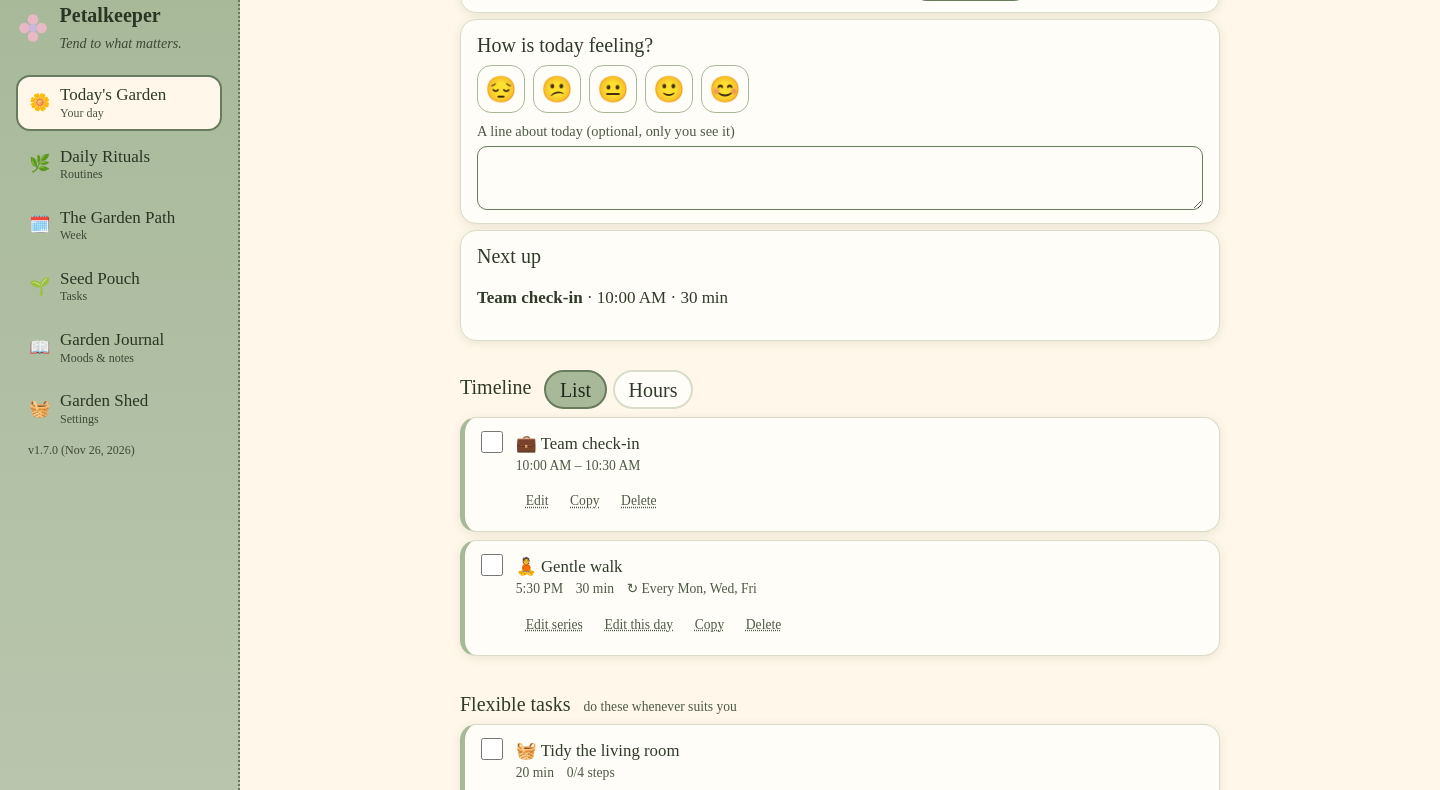
Test case: new UI › hours view shows timed activities
This screenshot has width=1440, height=790.
(page scrolled)
Click the button "Hours" at (653, 390), box [613,370,693,409]
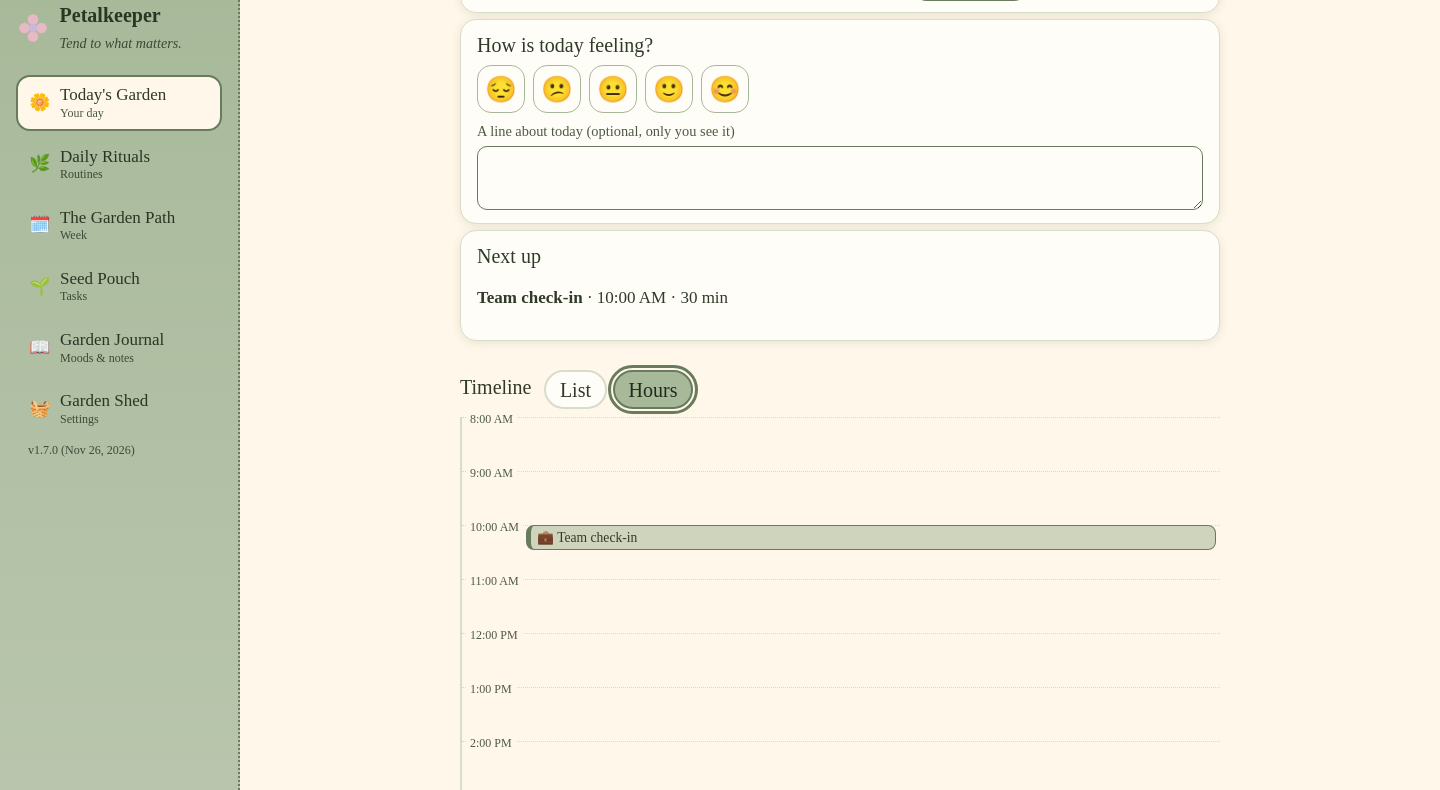
Expected: the button with aria-label "Team check-in, 10:00 AM" is shown, [526,525,1216,550]
